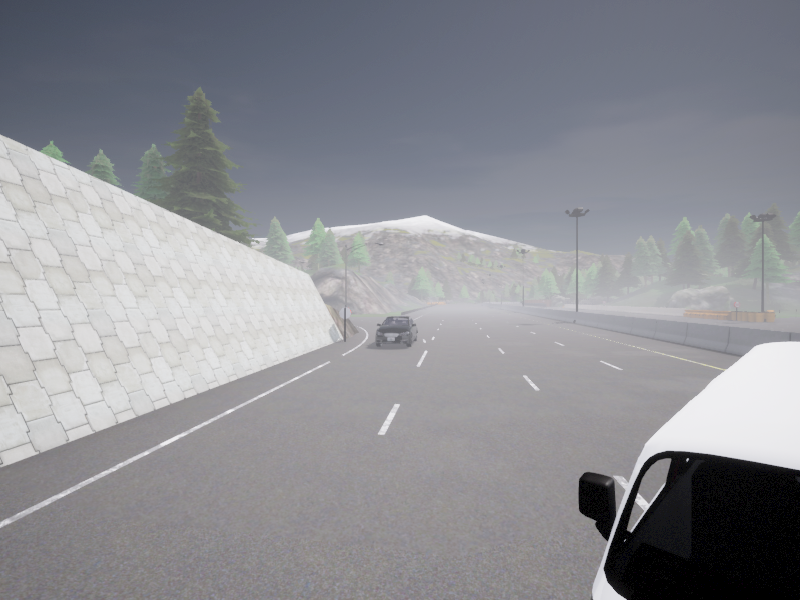vehicle: (578, 342, 799, 599), (375, 316, 417, 346), (520, 301, 522, 303)
